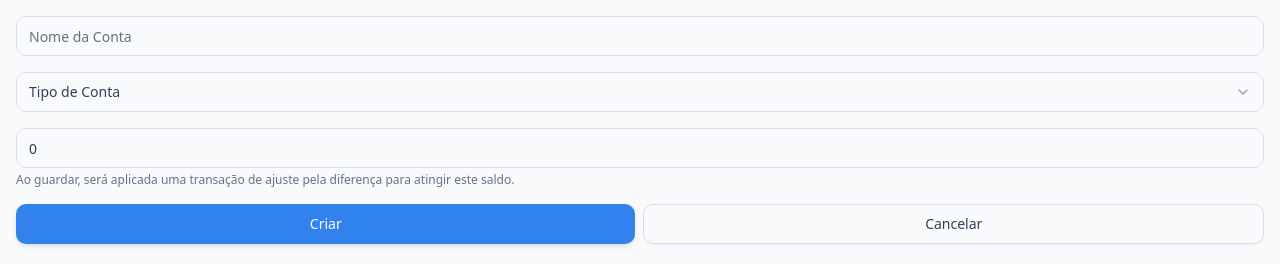
Test: AccountForm › should handle numeric input for saldo inicial
Testar input numérico válido
Replace the text in the field with placeholder "Saldo Atual (€) - Opcional" with "1500.50". click: (640, 148)
box: [16, 128, 1264, 168]
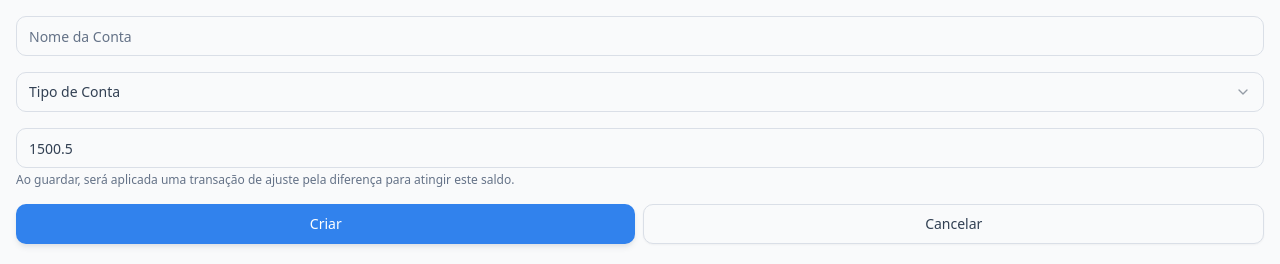
Now the field with placeholder "Saldo Atual (€) - Opcional" holds "1500.5"
Testar input não numérico (deve ser filtrado)
Replace the text in the field with placeholder "Saldo Atual (€) - Opcional" with "abc123". click: (640, 148)
box: [16, 128, 1264, 168]
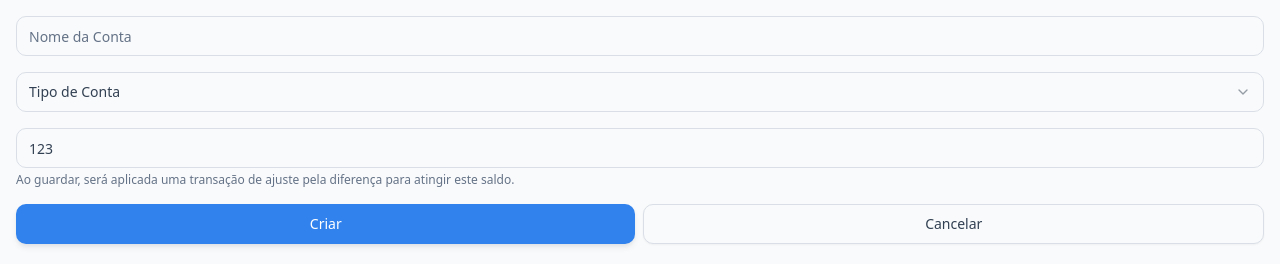
Now the field with placeholder "Saldo Atual (€) - Opcional" holds "123", box [16, 128, 1264, 168]
